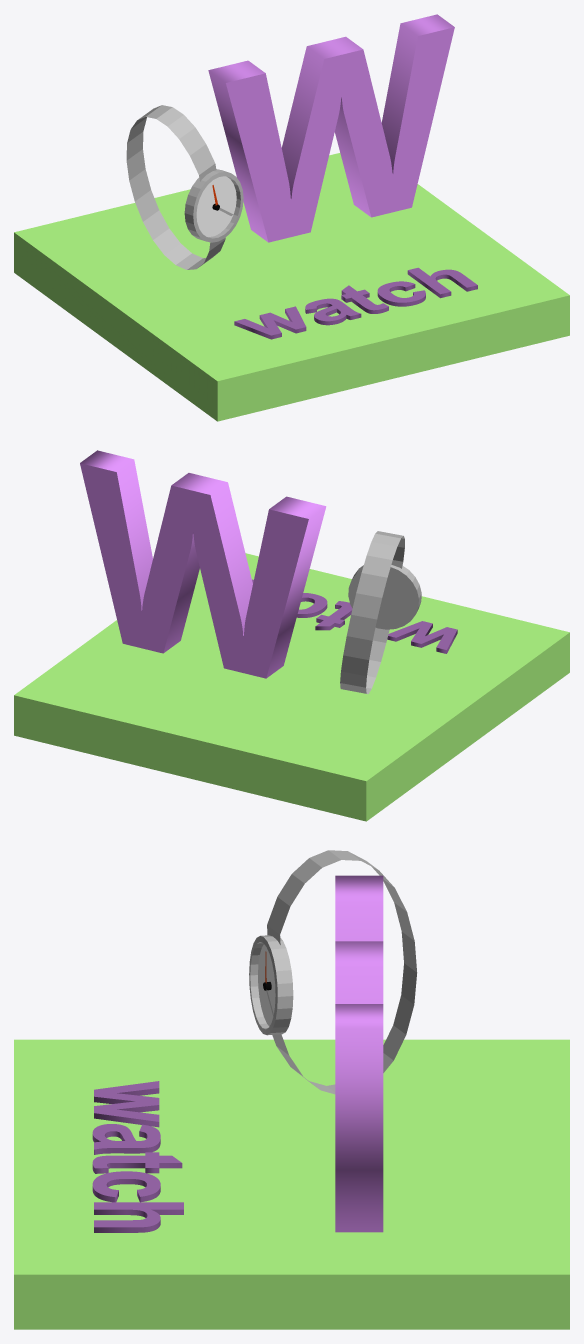
File: wletter.glb
The picture shows the model from 3 angles, top to bottom: view 1: azimuth 30°, elevation 25°; view 2: azimuth 150°, elevation 25°; view 3: azimuth 270°, elevation 25°; orthographic projection. The views are drawn at different scales.
Parts seen in each view (by area): view 1: Cube.022, Text.003, Cylinder, Text.002; view 2: Cube.022, Text.003, Cylinder, Text.002; view 3: Cube.022, Text.003, Text.002, Cylinder.
Boxes of the visible parts, x1,y1,x2,y2 form: Cube.022: (14, 153, 569, 421); Text.003: (208, 14, 454, 242); Cylinder: (126, 105, 243, 269); Text.002: (234, 267, 477, 339); Cube.022: (14, 553, 569, 821); Text.003: (80, 450, 326, 678); Cylinder: (340, 531, 421, 693); Text.002: (252, 579, 457, 653); Cube.022: (14, 1039, 569, 1329); Text.003: (335, 875, 383, 1232); Text.002: (92, 1081, 183, 1232); Cylinder: (249, 850, 417, 1094).
Bounding box in the file's own units: 0.3261 × 0.1946 × 0.3237.
